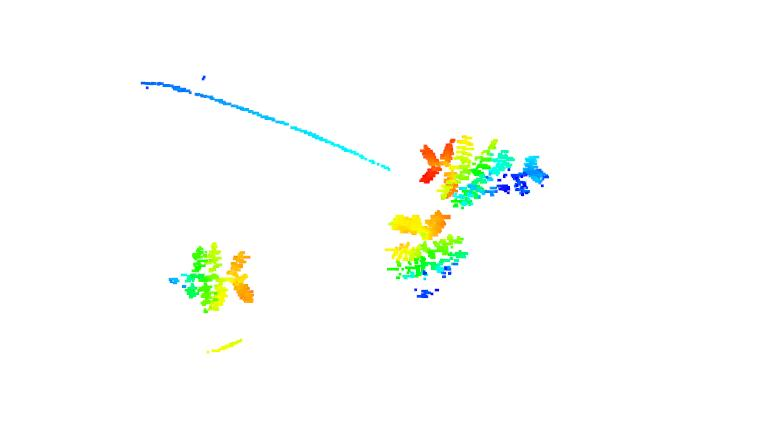chickpea: (417, 133, 549, 211), (390, 206, 465, 301), (172, 243, 259, 317)
